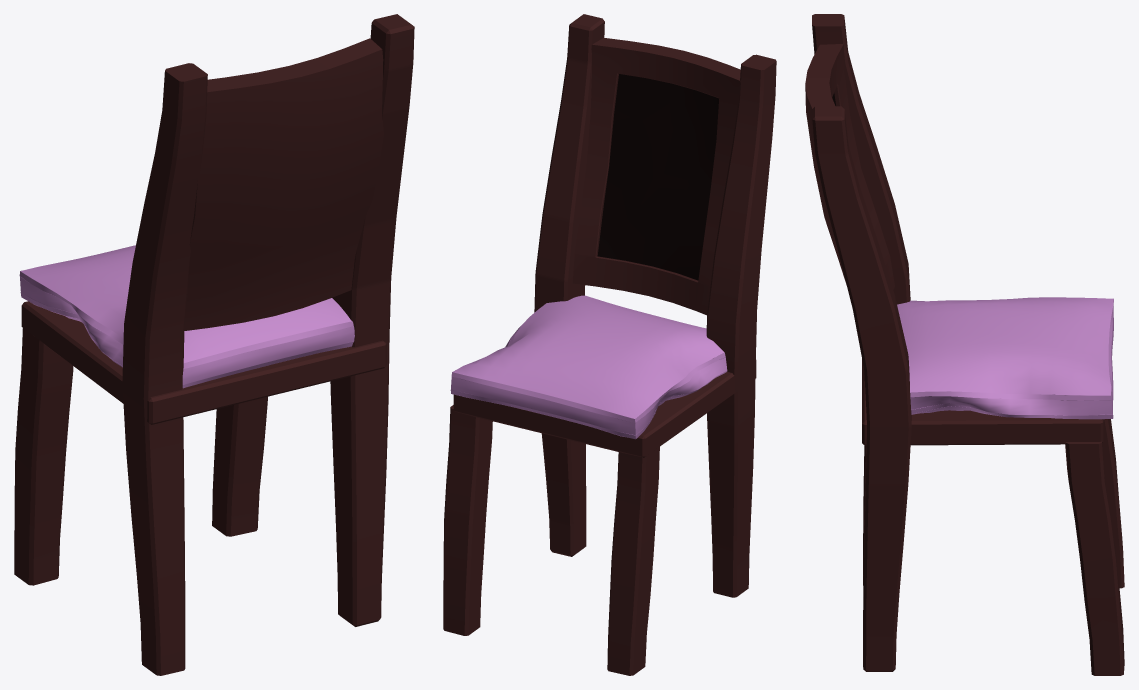
File: Silla.fbx
The picture shows the model from 3 angles, left to right: view 1: azimuth 30°, elevation 25°; view 2: azimuth 150°, elevation 25°; view 3: azimuth 270°, elevation 25°; orthographic projection. The views are drawn at different scales.
Visible parts, largest first — view 1: Silla; view 2: Silla; view 3: Silla.
Part boxes in pixels (box(x1,y1,x2,y2)): Silla: box(14, 14, 414, 675); Silla: box(443, 14, 776, 675); Silla: box(805, 14, 1124, 675).
Bounding box in the file's own units: 39.66 × 95.23 × 49.28.
